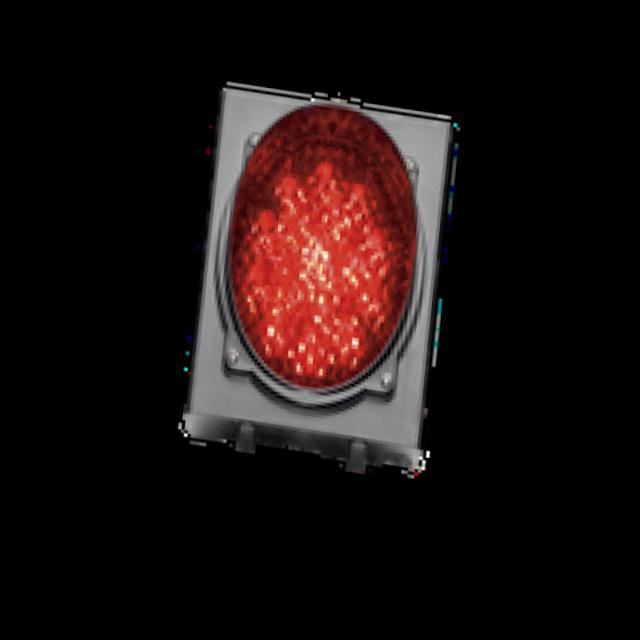red_light: (132, 40, 489, 432)
